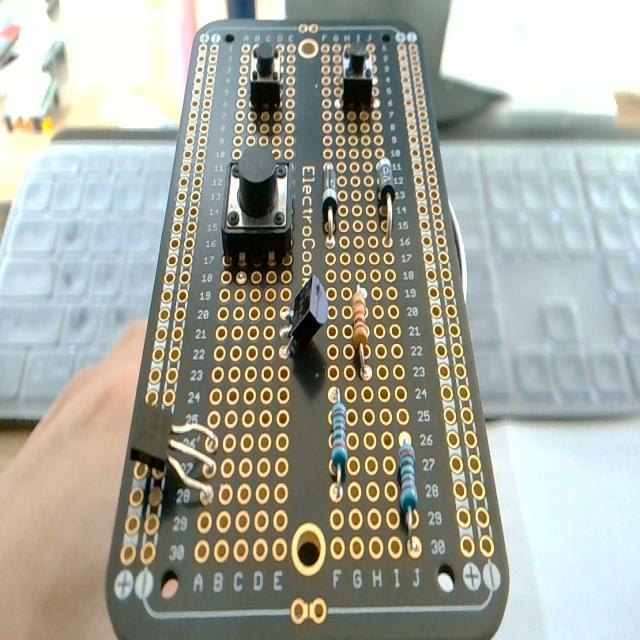diode: (376, 157, 396, 239), (322, 163, 337, 236)
resistor: (398, 441, 420, 552), (328, 391, 348, 502), (352, 288, 372, 380)
switch: (222, 149, 294, 270), (250, 42, 281, 109), (343, 45, 373, 111)
transistor: (124, 396, 224, 500), (277, 274, 330, 365)
